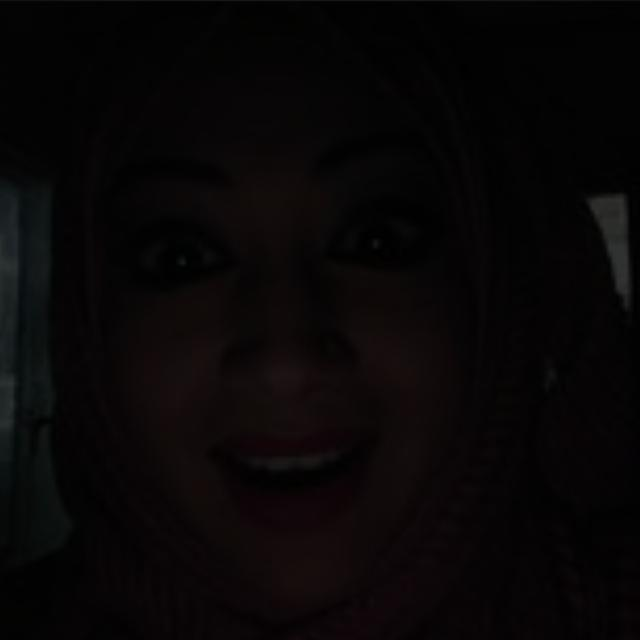Surprised: (64, 76, 481, 576)
